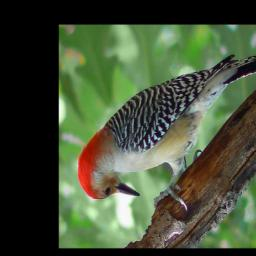Woodpecker: (74, 49, 256, 212)
